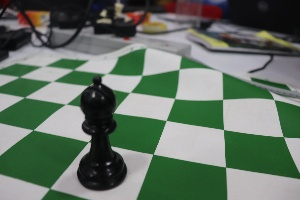black_bishop: (68, 69, 133, 195)
